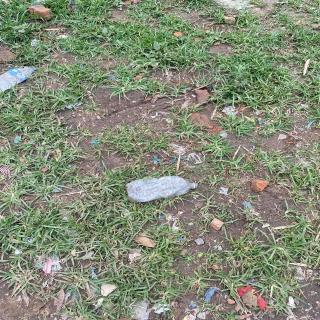Plastic-bottle: (126, 173, 202, 206), (1, 64, 43, 95)
